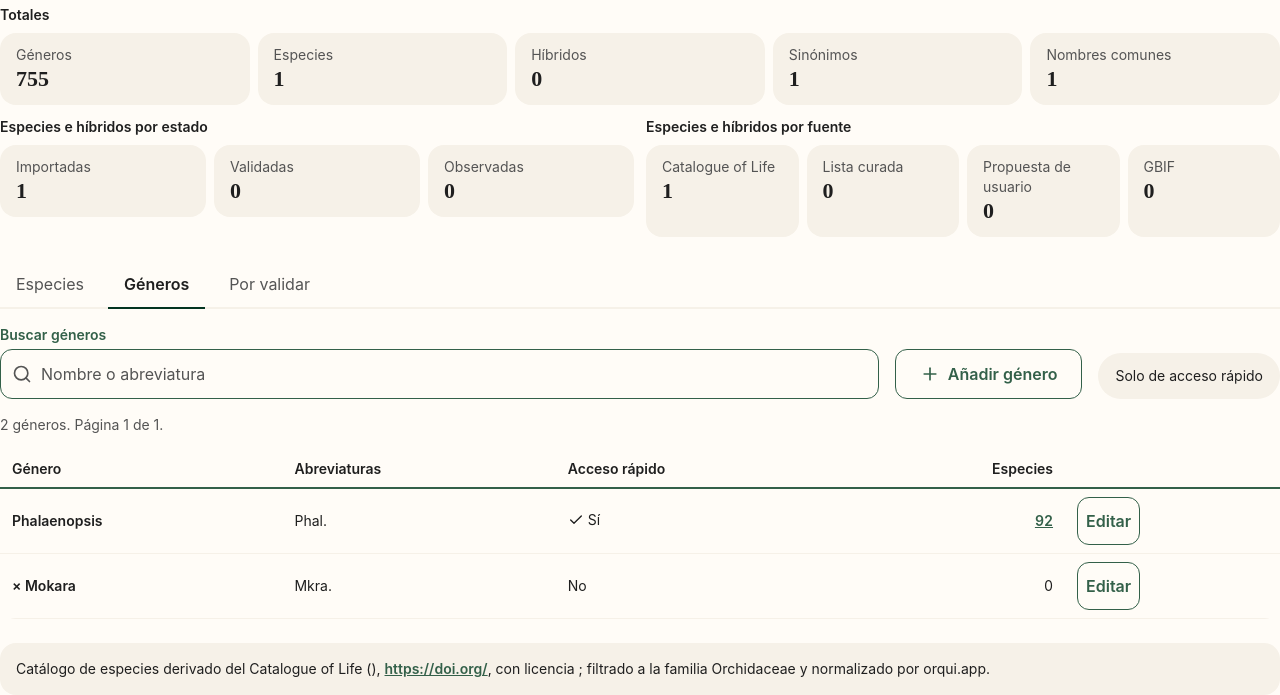
Test: Backoffice: géneros y abreviaturas › borra un género sin especies tras confirmar y cierra su panel
(page scrolled)
Click the button "Editar" in the row of "× Mokara" at (1109, 586), box x1=1077 y1=562 x2=1140 y2=610
(page scrolled)
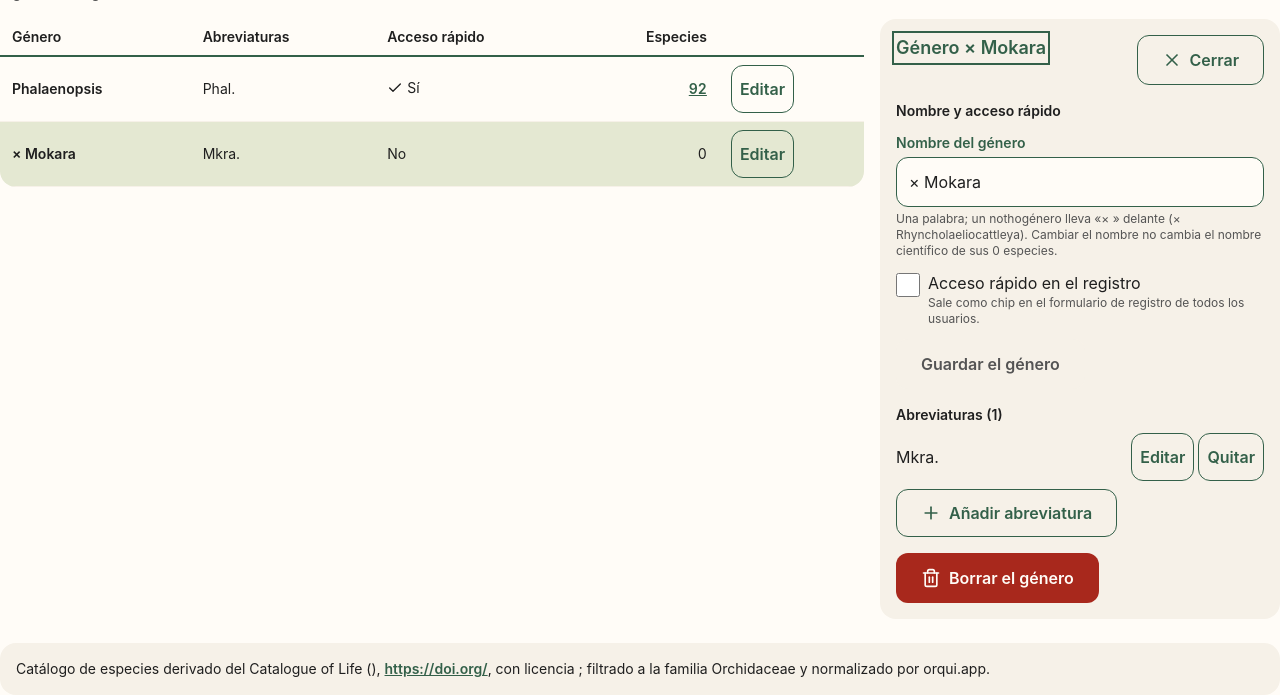
Click the button "Borrar el género" at (997, 578), box x1=896 y1=553 x2=1099 y2=603
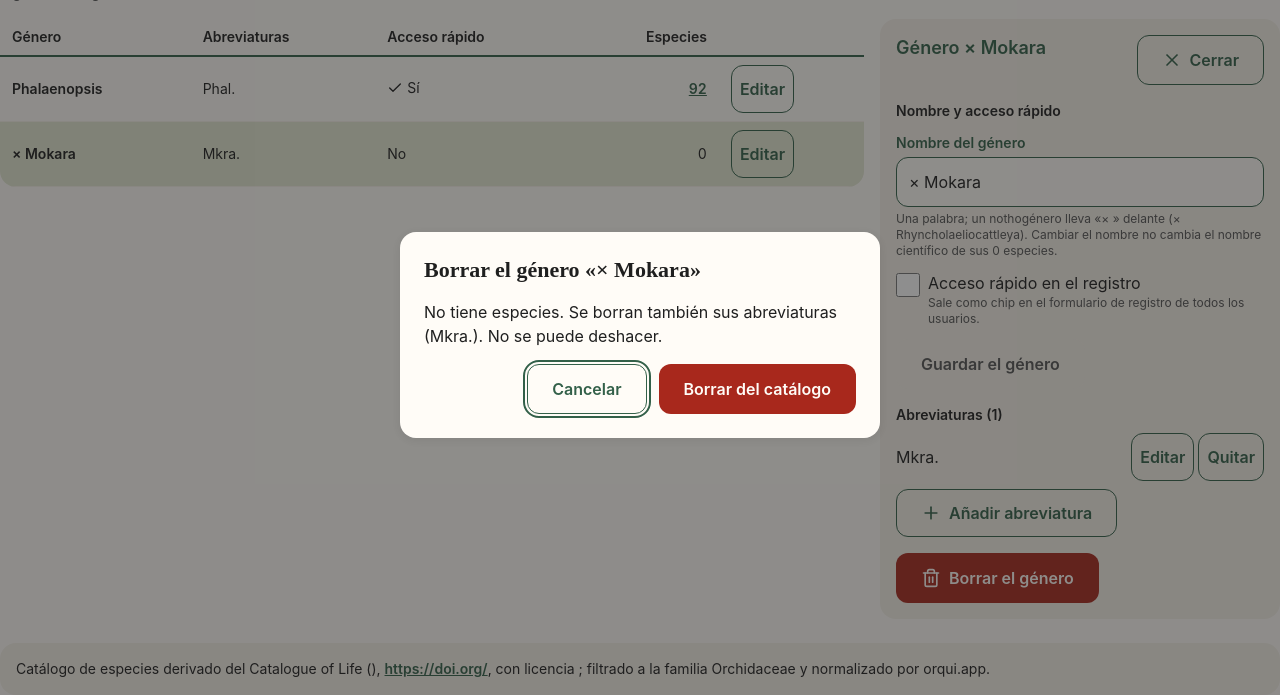
expect the dialog "Borrar el género «× Mokara»" shows "Se borran también sus abreviaturas (Mkra.).": met, box x1=424 y1=302 x2=837 y2=346
Click the button "Borrar del catálogo" at (757, 389), box x1=658 y1=364 x2=856 y2=414
(page scrolled)
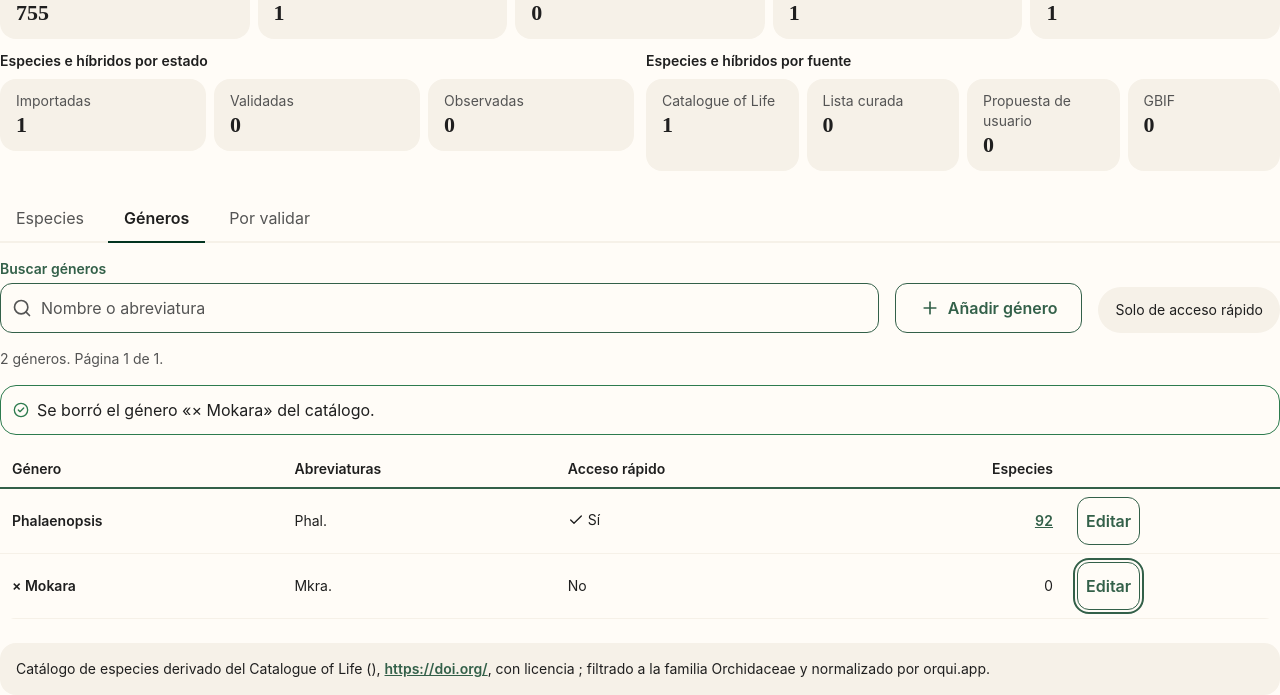
expect the text "Se borró el género «× Mokara» del catálogo." is shown 2 times: met
